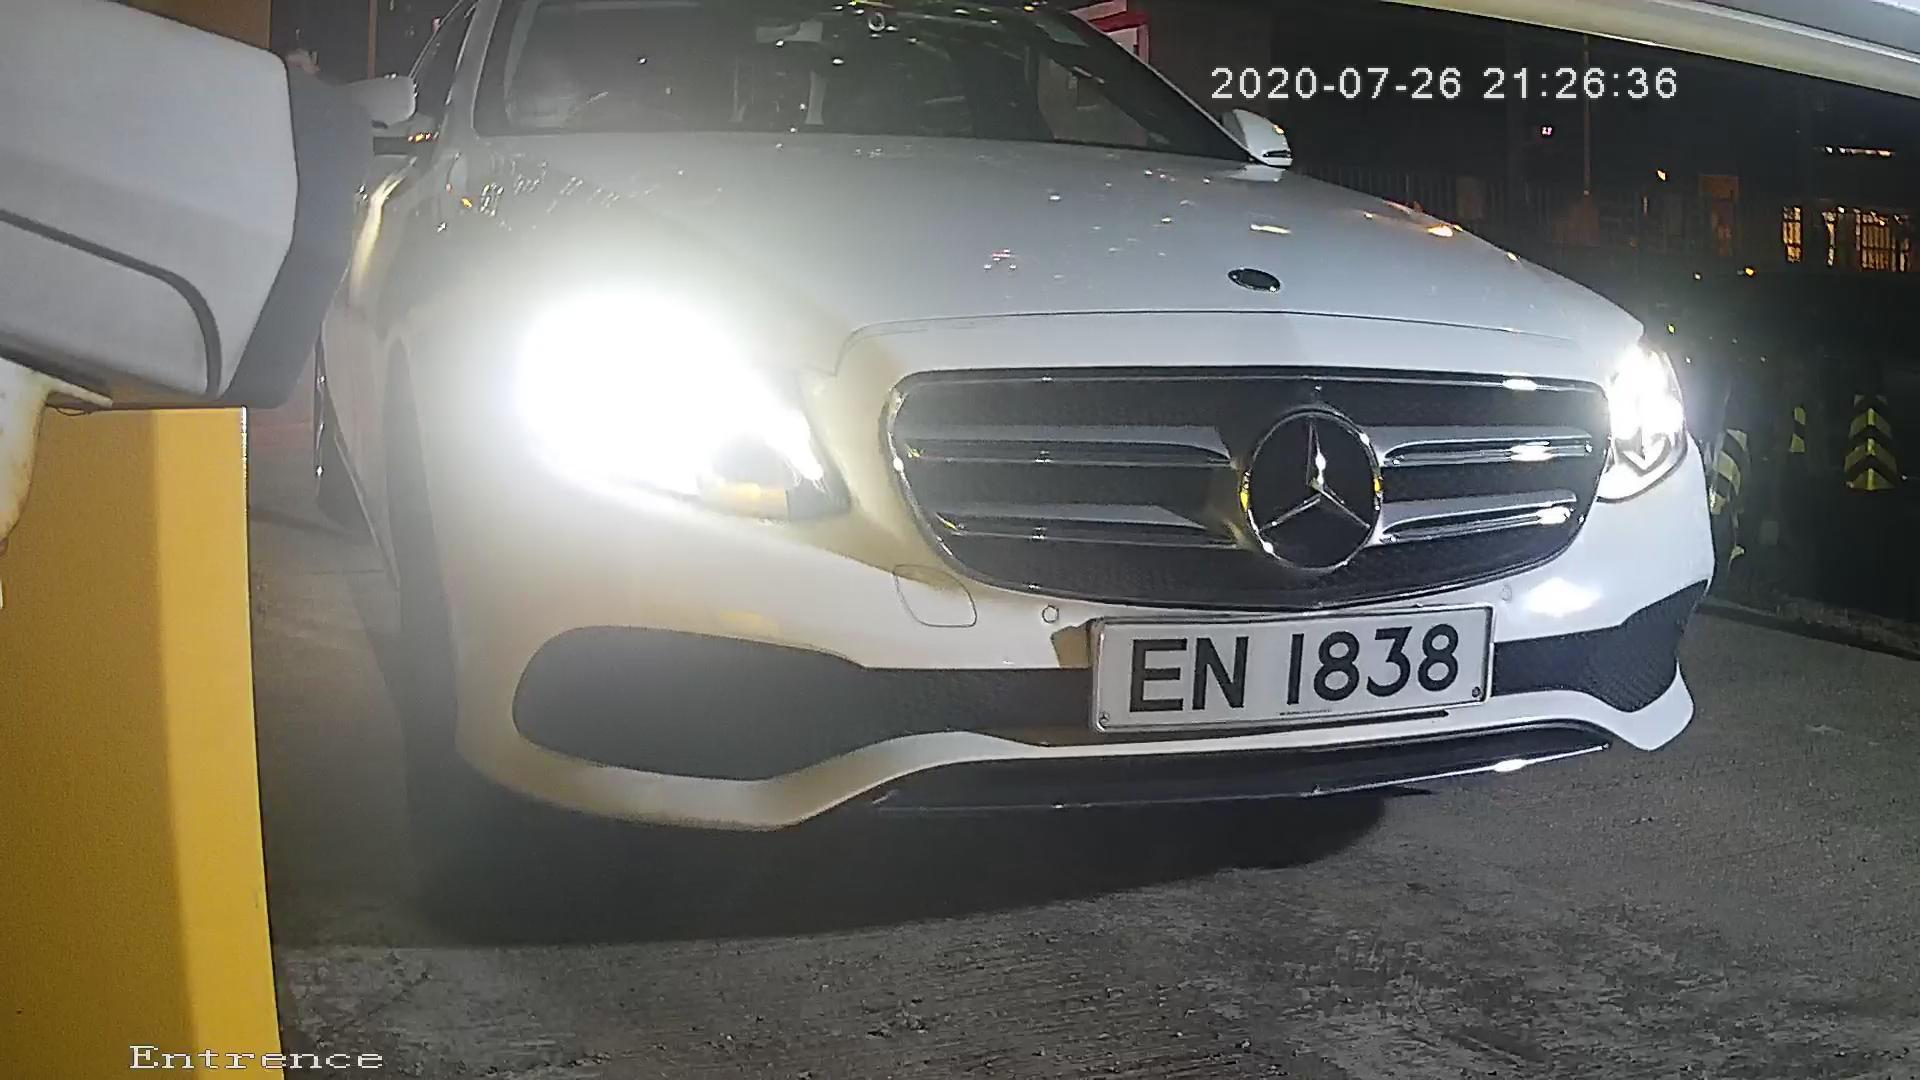Car: (138, 44, 1818, 892)
License Plate: (1063, 594, 1526, 738)
